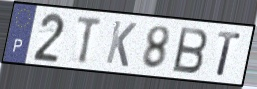2: (32, 10, 67, 65)
8: (141, 24, 172, 70)
B: (171, 25, 210, 76)
K: (103, 19, 139, 69)
T: (75, 15, 104, 66), (215, 29, 242, 78)
